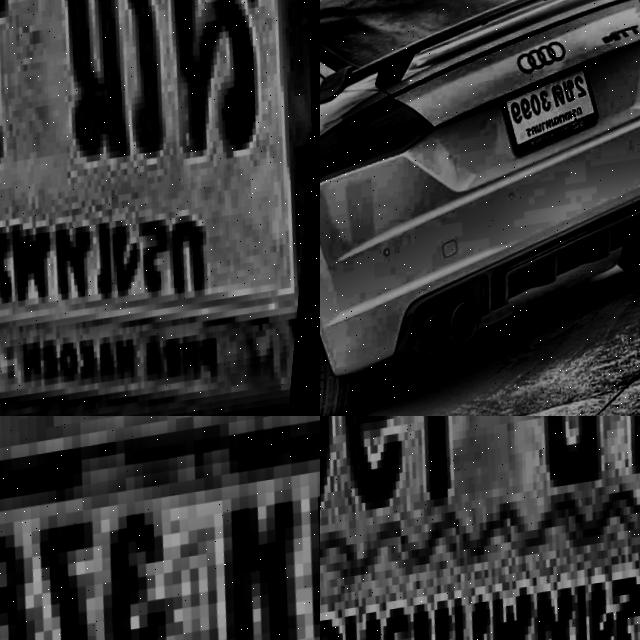license-plate: (0, 0, 320, 416), (0, 416, 320, 640), (320, 416, 640, 640), (497, 62, 611, 166)
